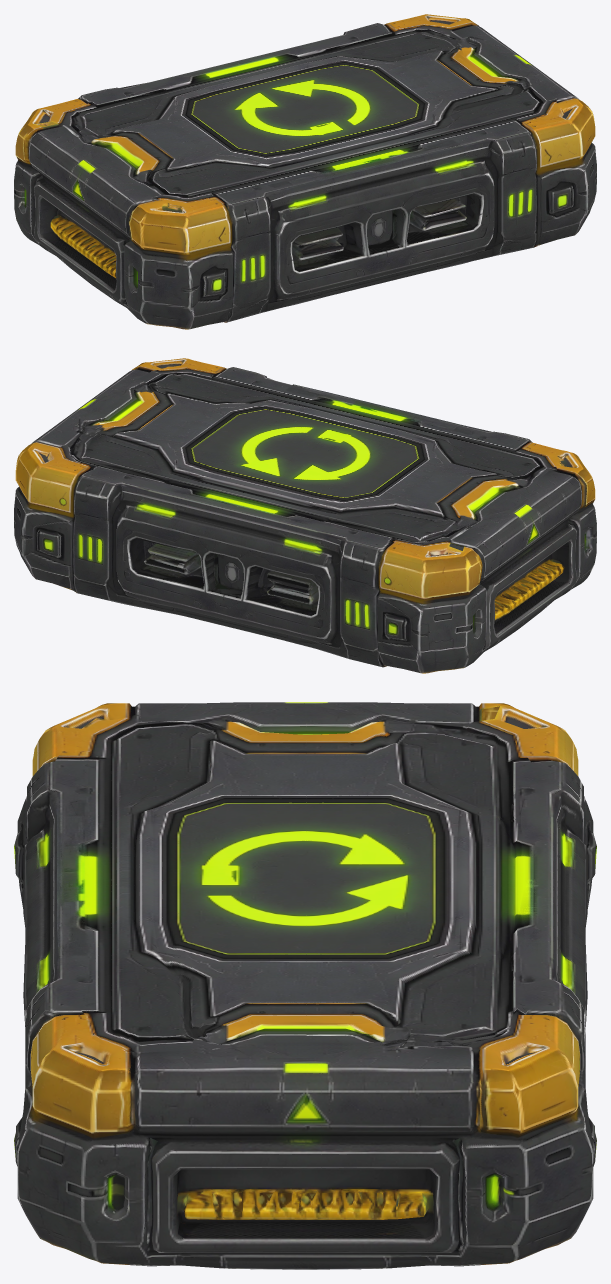
File: porting-plataformas.glb
3 views of the same model, one above another, from view 1: azimuth 30°, elevation 25°; view 2: azimuth 150°, elevation 25°; view 3: azimuth 270°, elevation 25° (orthographic). The views are drawn at different scales.
Visible parts, largest first — view 1: Mesh_0; view 2: Mesh_0; view 3: Mesh_0.
Part boxes in pixels (bbox=[...]): Mesh_0: bbox=[14, 14, 596, 329]; Mesh_0: bbox=[14, 358, 596, 673]; Mesh_0: bbox=[14, 702, 596, 1269].
Size of the model in its own units: 3.69 by 1 by 2.37.
Materials: 1 (1 with a texture image).
